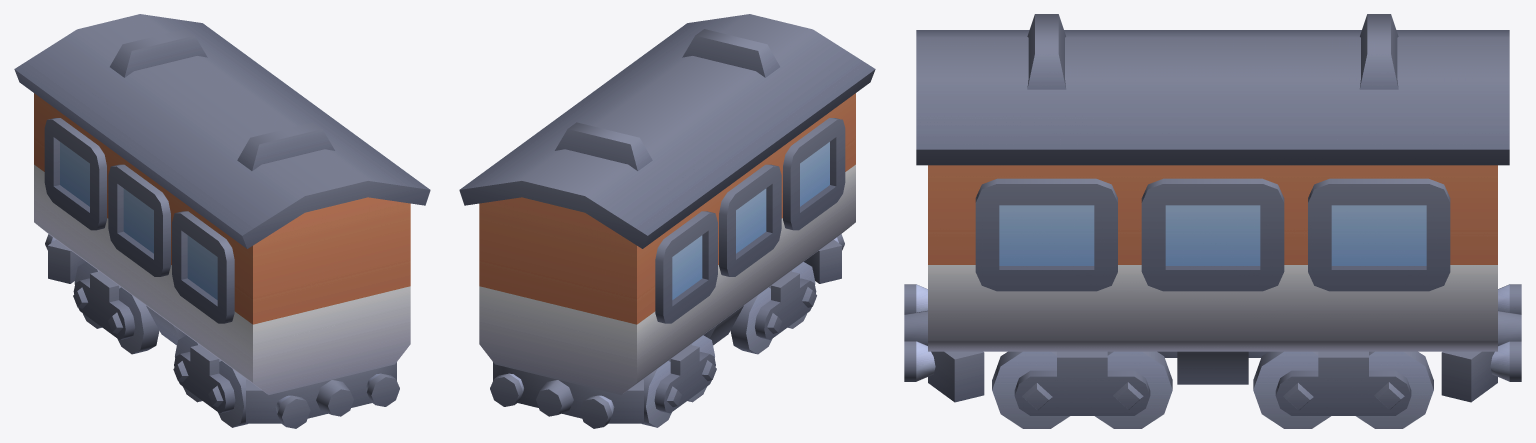
The model's file is train-locomotive-passenger-a.glb.
The picture shows the model from 3 angles, left to right: view 1: azimuth 30°, elevation 25°; view 2: azimuth 150°, elevation 25°; view 3: azimuth 270°, elevation 25°; orthographic projection. The views are drawn at different scales.
Visible parts, largest first — view 1: train-locomotive-passenger-a; view 2: train-locomotive-passenger-a; view 3: train-locomotive-passenger-a.
Part boxes in pixels (x1,y1,x2,y2): train-locomotive-passenger-a: [14, 14, 430, 428]; train-locomotive-passenger-a: [459, 14, 875, 428]; train-locomotive-passenger-a: [904, 14, 1521, 428].
Bounding box in the file's own units: 1.19 × 1.65 × 2.6.
Materials: 1 (1 with a texture image).
